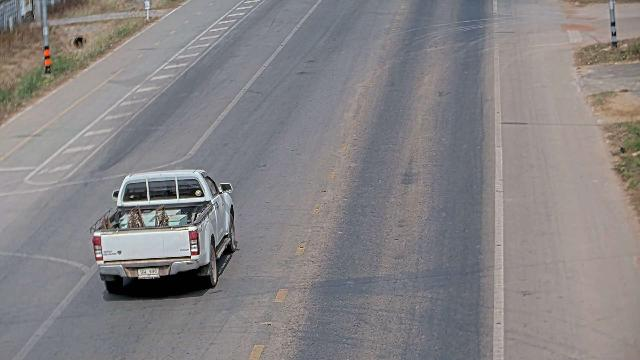pickup-truck: (89, 168, 238, 293)
